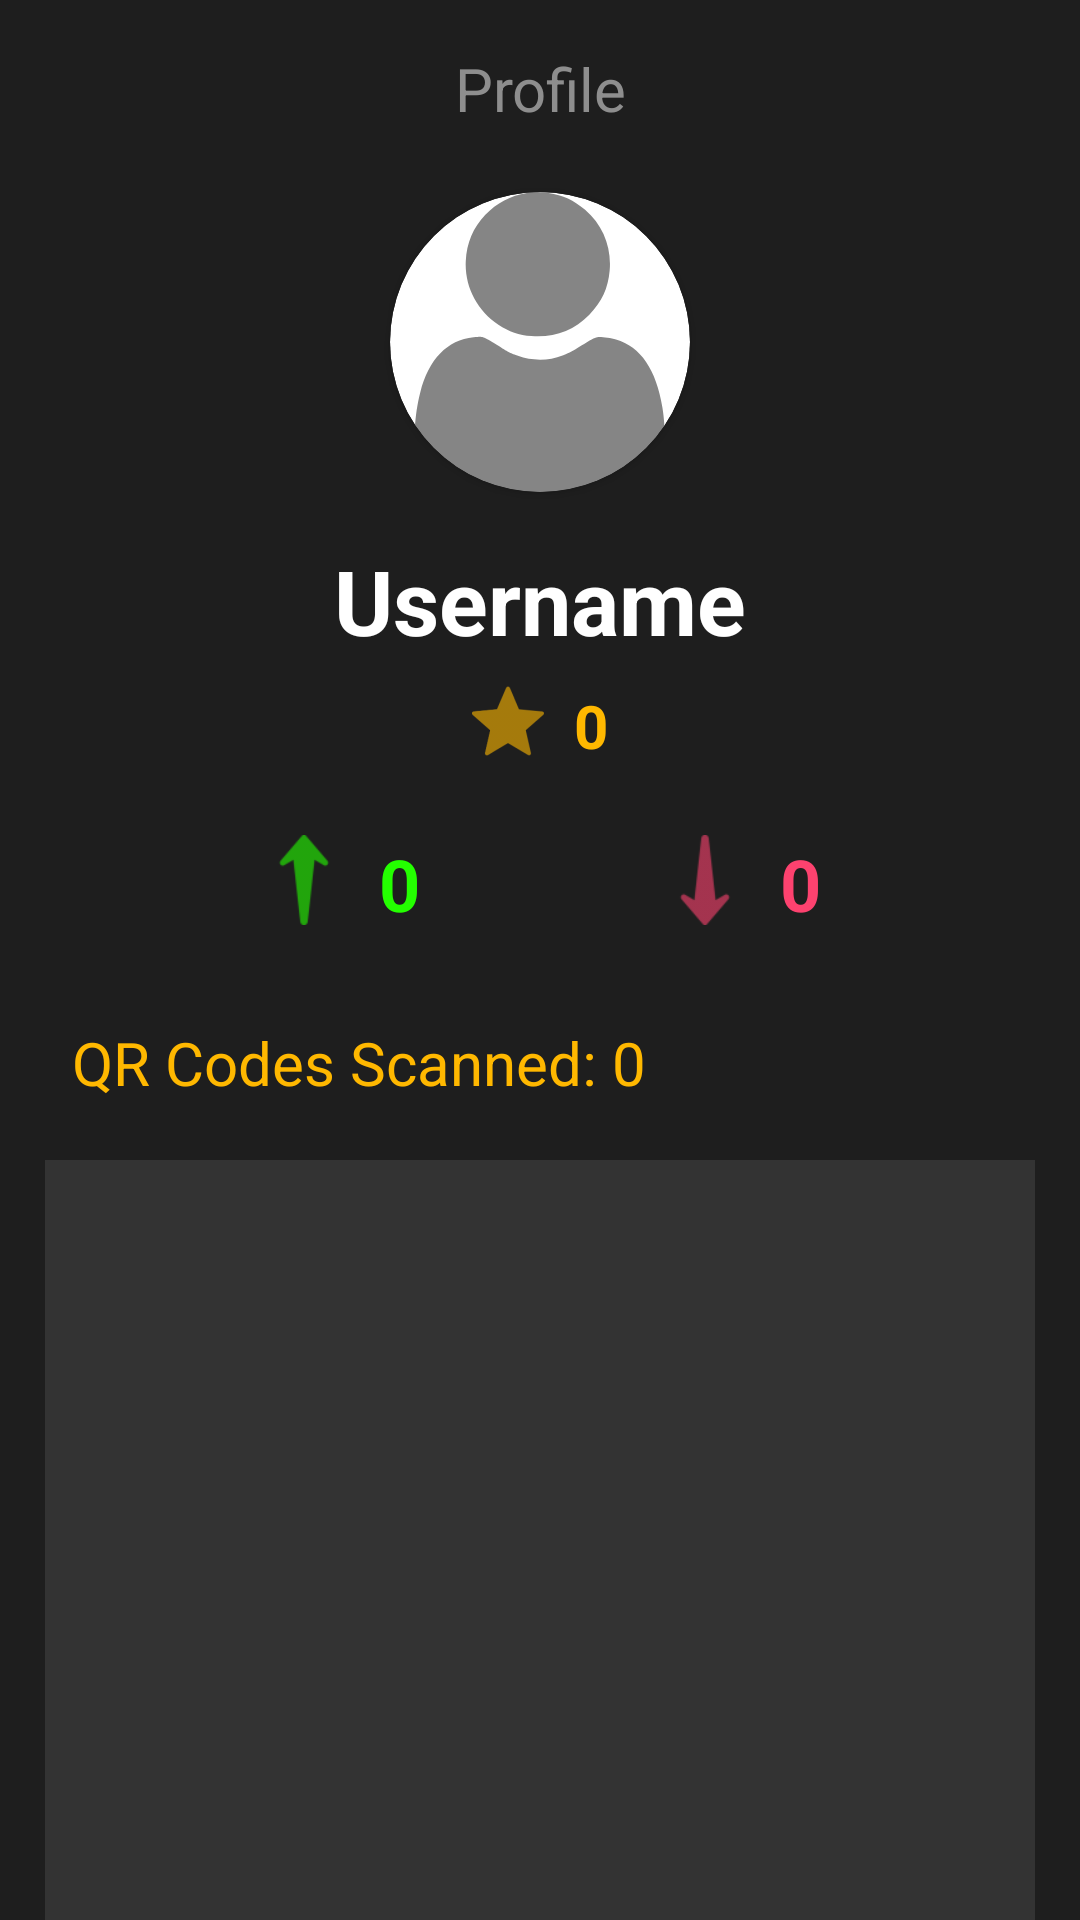

Icons on this 1080x1920 Android screen, each with its box as (x1, y1, x2, y2):
points: (472, 686, 544, 756)
